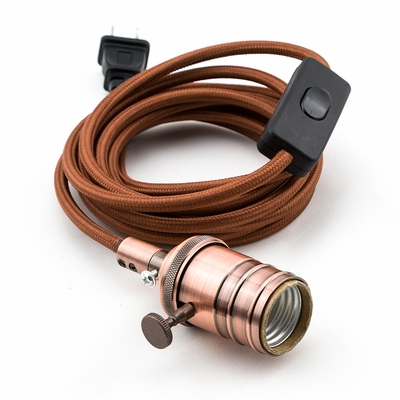Nonrec_Tangler: (39, 30, 341, 364)
